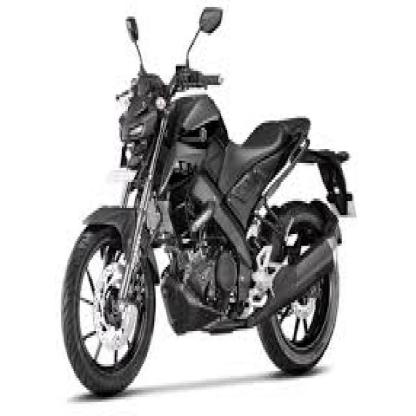bike: (58, 7, 353, 399)
